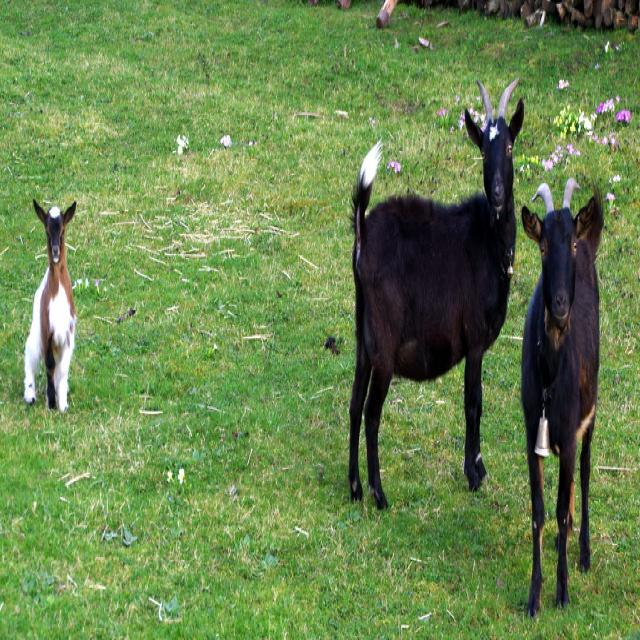Goat: (352, 67, 522, 510), (519, 172, 602, 619), (20, 194, 78, 411)
